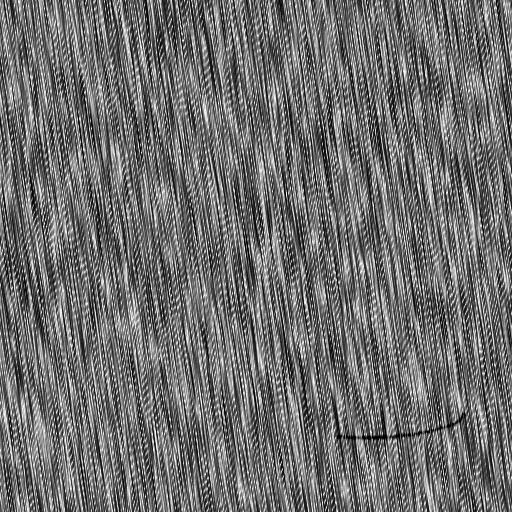DefectTypeC: (332, 412, 465, 444)
